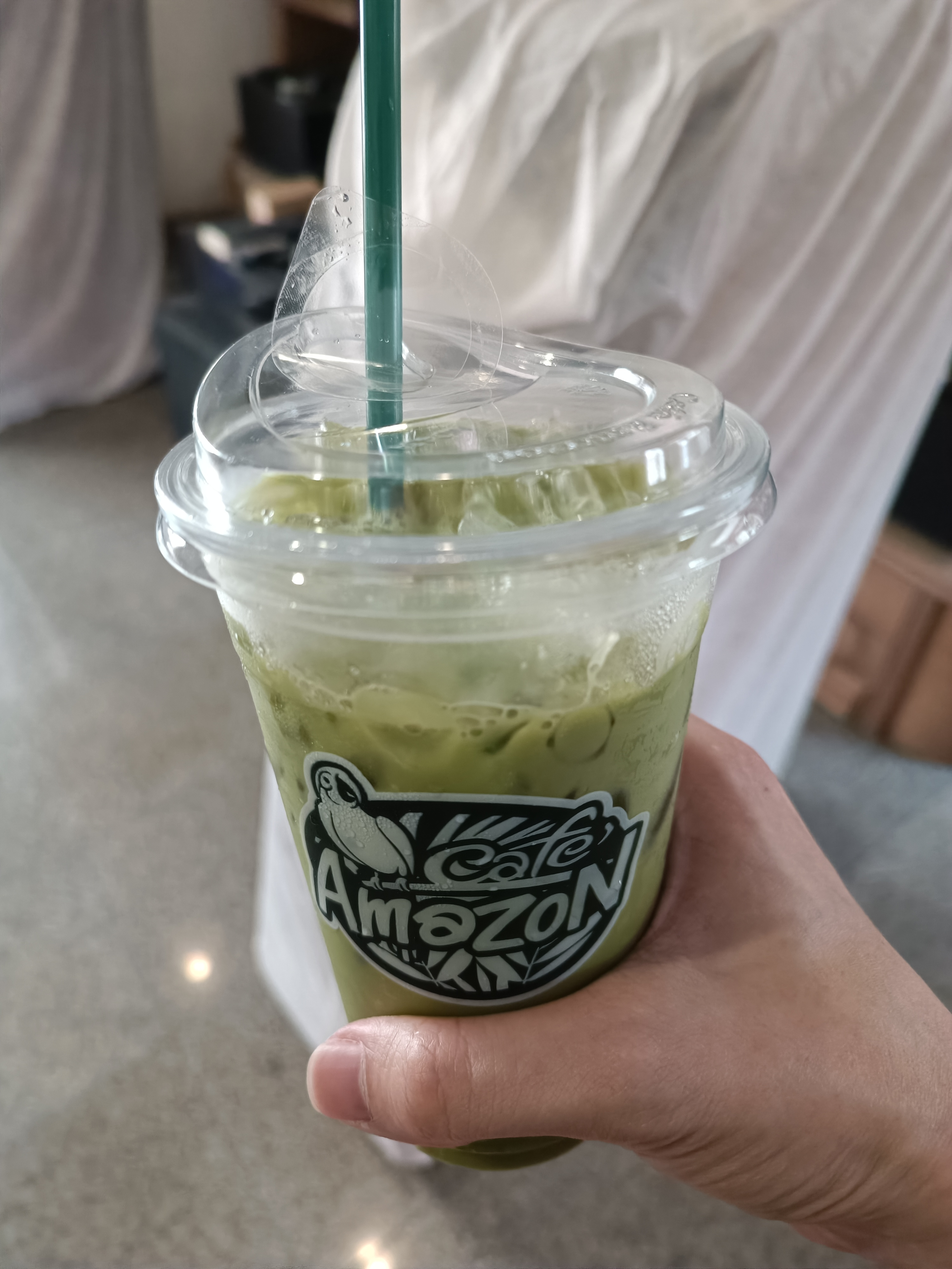plastic: (122, 32, 790, 1207)
